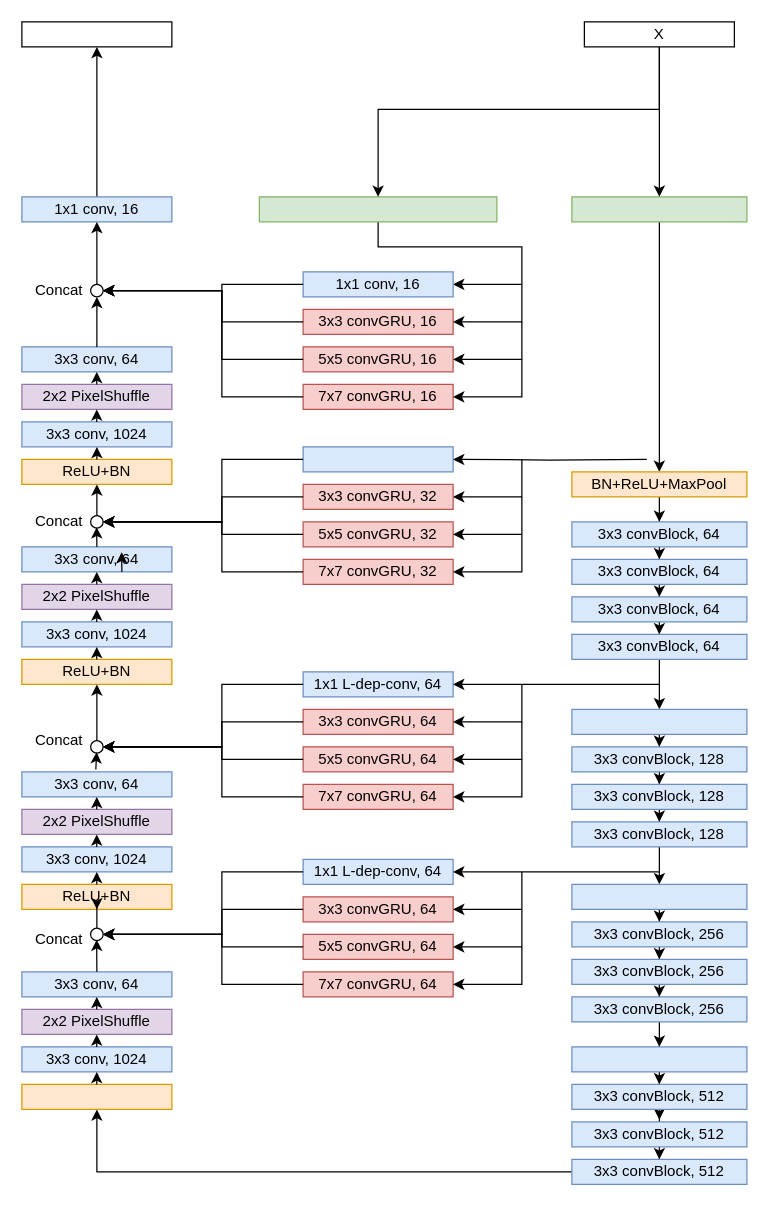
This 769x1206 diagram has some shape labels left out. Each missing label, with the centre of its shape:
1x1 conv, 32: point (377, 459)
3x3 convBlock, 128, /2: point (659, 721)
3x3 convBlock, 256, /2: point (659, 896)
3x3 convBlock, 512, /2: point (659, 1059)
7x7 conv,64,/1, padding3: point (377, 209)
7x7 conv,64,/2: point (659, 209)
BN: point (96, 1096)
X+1: point (96, 34)
